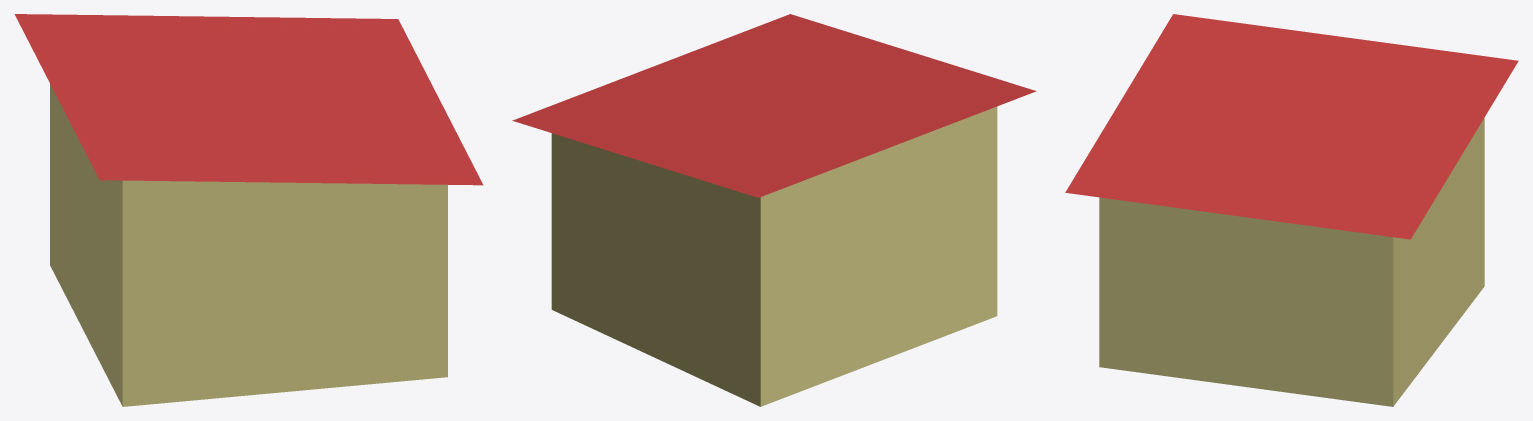
3 renders of one model, left to right at view 1: azimuth 30°, elevation 25°; view 2: azimuth 150°, elevation 25°; view 3: azimuth 270°, elevation 25°, orthographic. The views are drawn at different scales.
Size of the model in its own units: 12.4 by 12.55 by 6.66.
